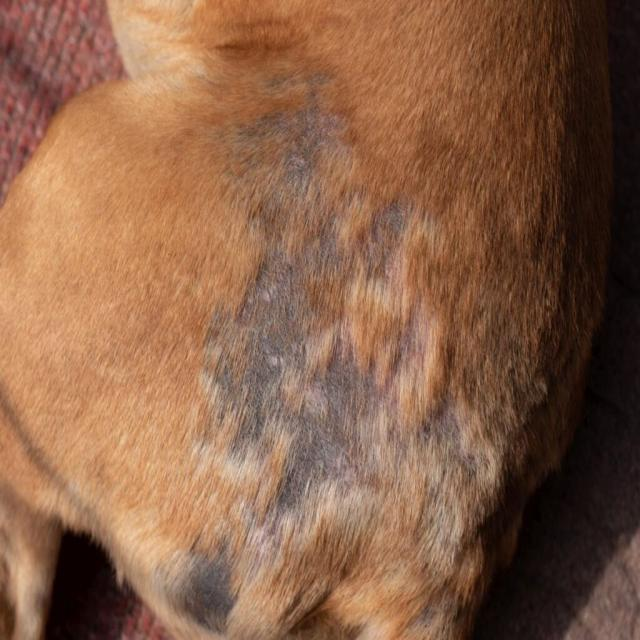mange: (150, 13, 549, 639)
